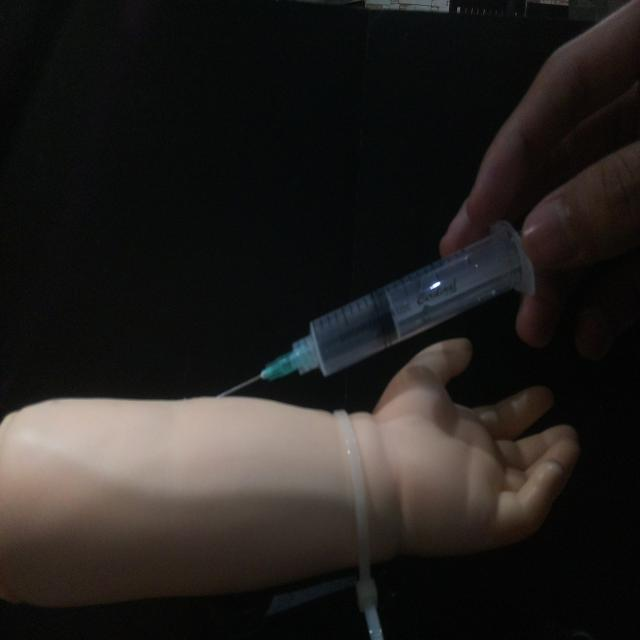19deg: (212, 216, 538, 401)
